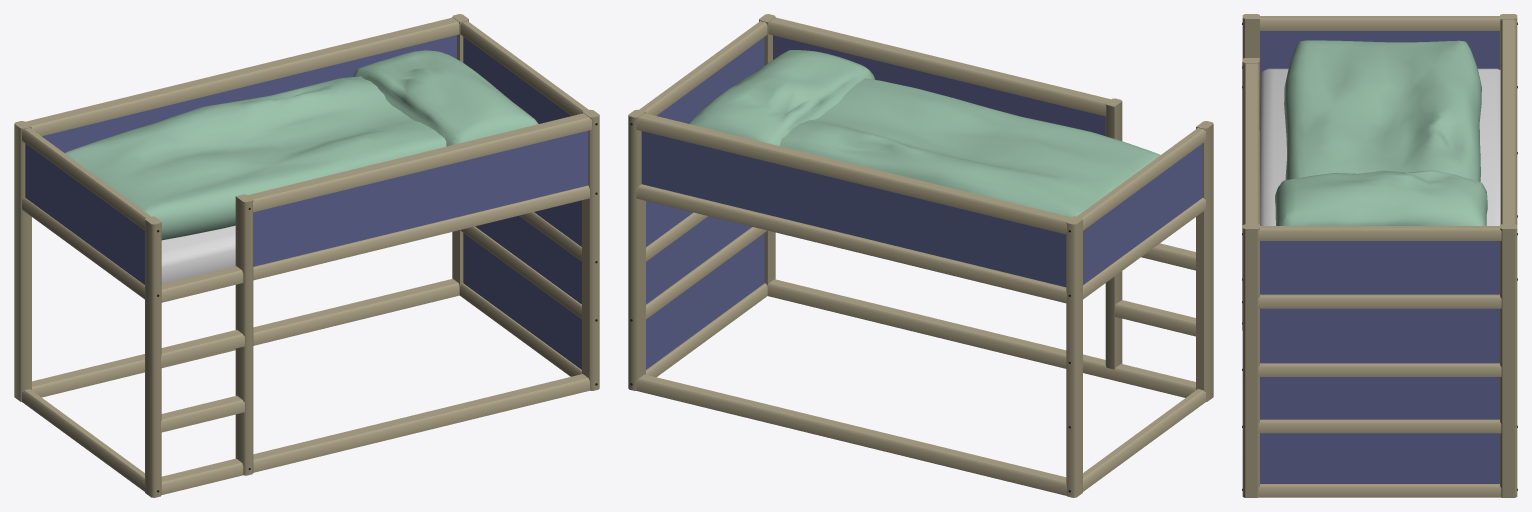
File: KuraReversibleBed.FBX
The picture shows the model from 3 angles, left to right: view 1: azimuth 30°, elevation 25°; view 2: azimuth 150°, elevation 25°; view 3: azimuth 270°, elevation 25°; orthographic projection.
Parts seen in each view (by area): view 1: KuraReversibleBed; view 2: KuraReversibleBed; view 3: KuraReversibleBed.
Part boxes in pixels (x1,y1,x2,y2): KuraReversibleBed: (14,14,599,497); KuraReversibleBed: (628,14,1213,497); KuraReversibleBed: (1242,14,1517,497).
Bounding box in the file's own units: 199 × 108 × 120.
